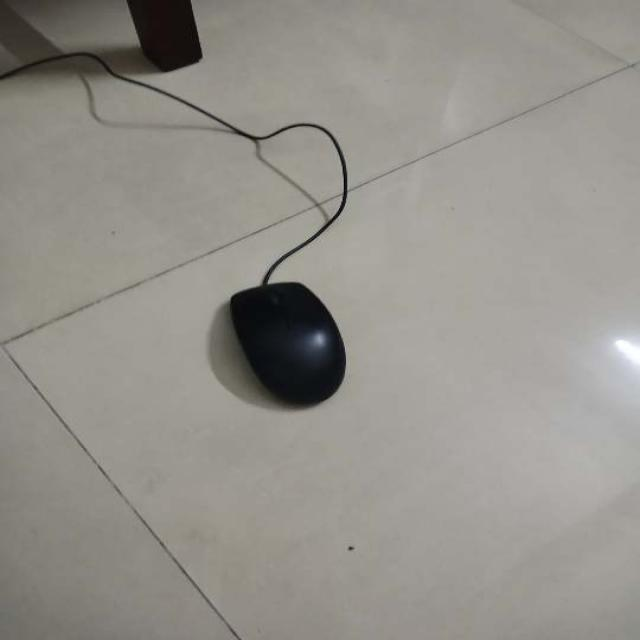mouse: (218, 278, 360, 412)
